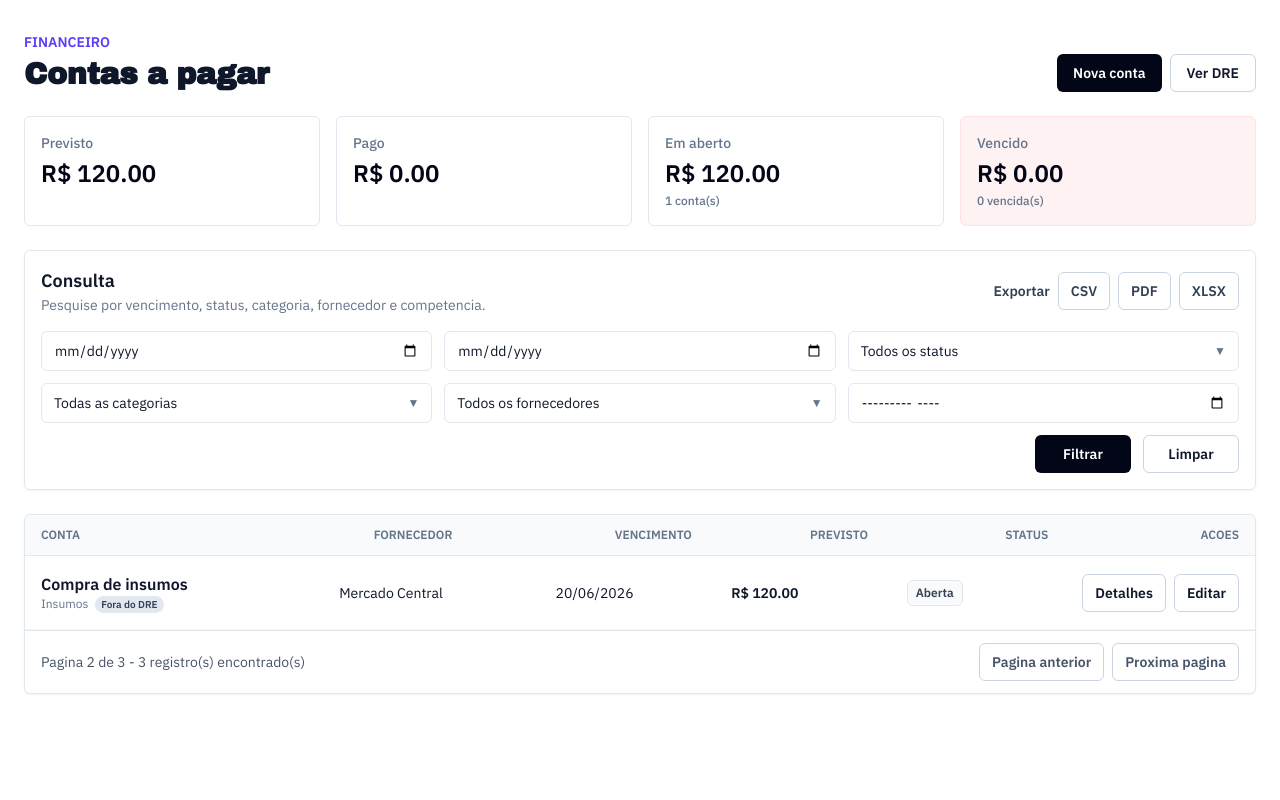
PayablesClient filters › recovers to the last valid page when the result set shrinks
The width and height of the screenshot is (1280, 800).
Click the button "Proxima pagina".
click(1176, 662)  # box [1112,643,1239,681]
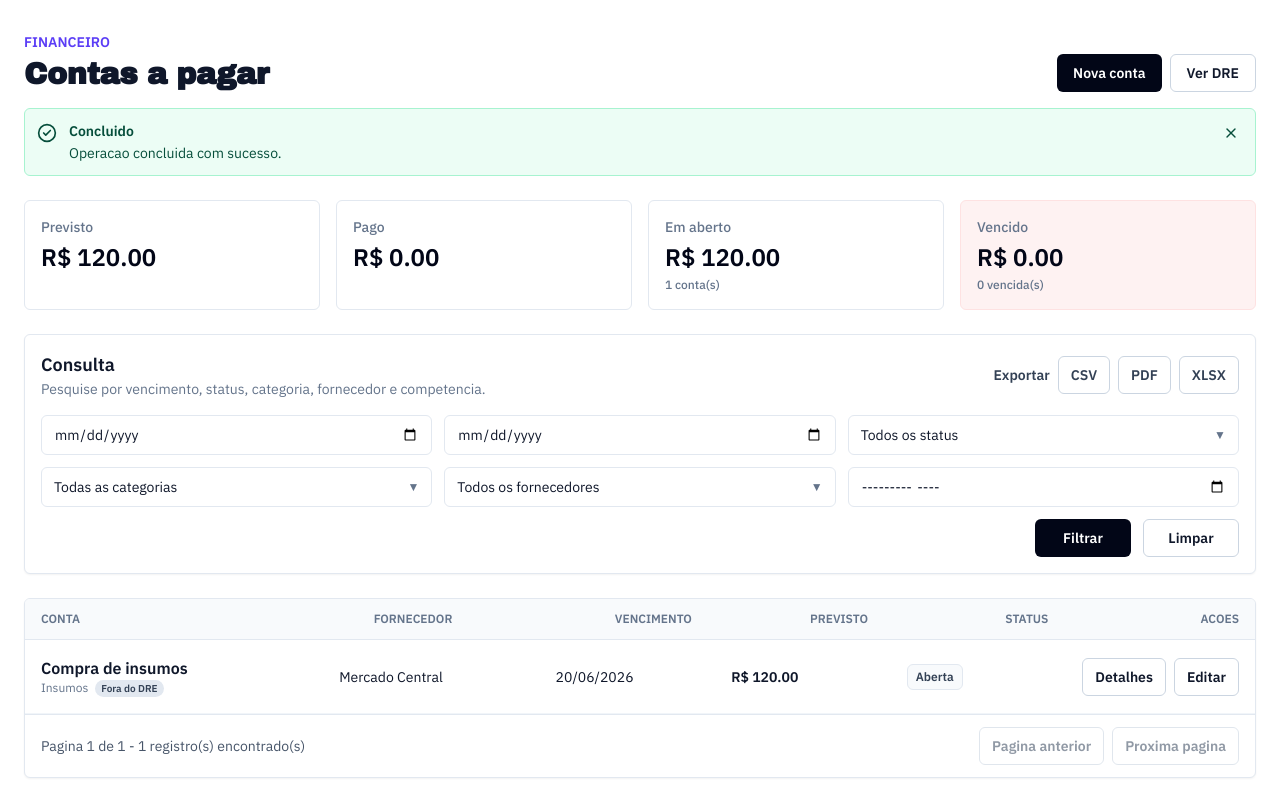
Expected: the text "Pagina 1 de 1" is shown, [41,736,305,756]
